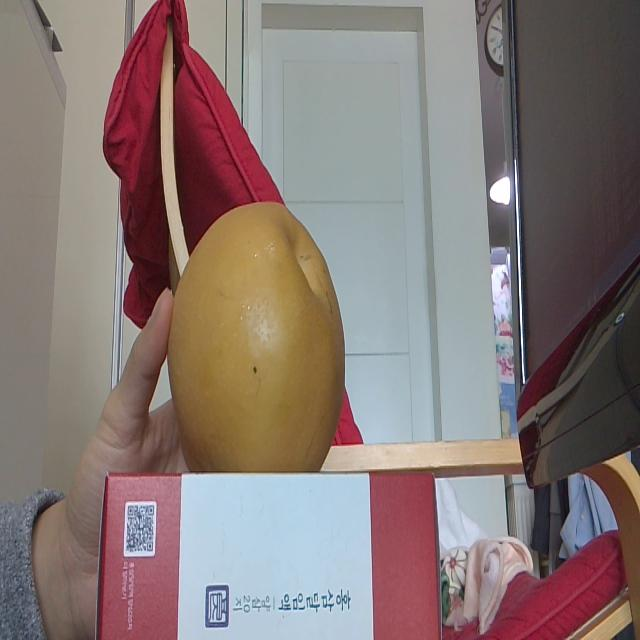pear: (170, 198, 348, 474)
